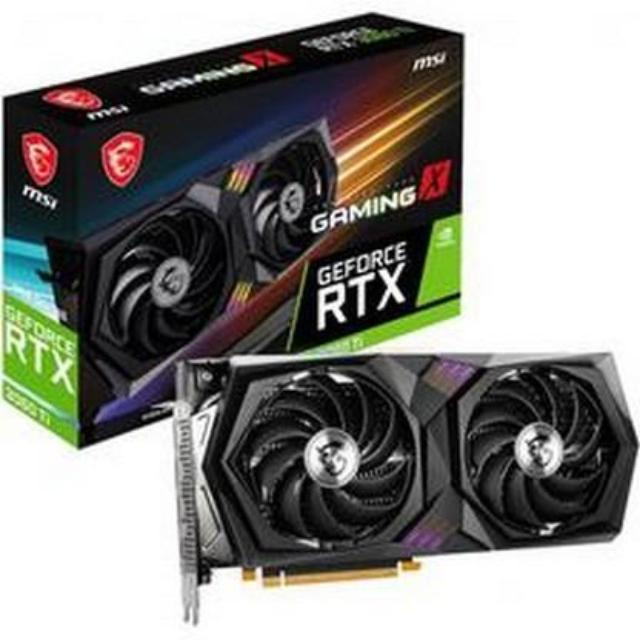GPU: (158, 338, 640, 604)
